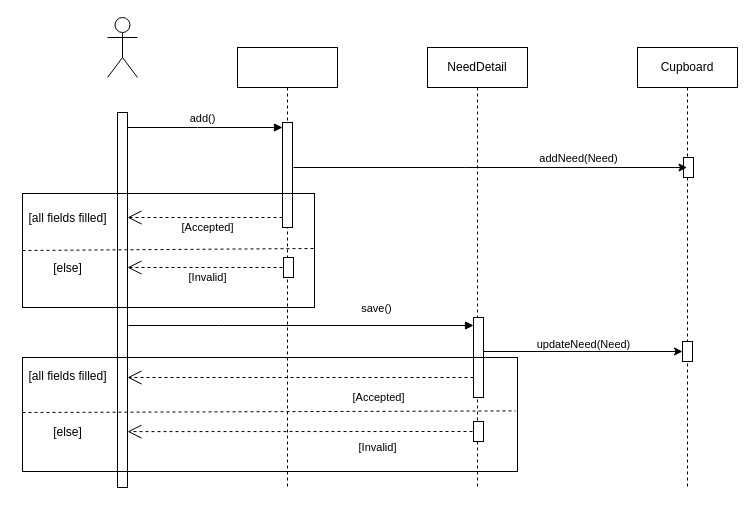
Some shapes in this 755 by 505 pixel diagram are drawn without their labels. The shapes that lost their labels are listed below. From the top down, each one's centre as x and y in pixels, then its label:
(122,47): Admin
(287,267): Needs
